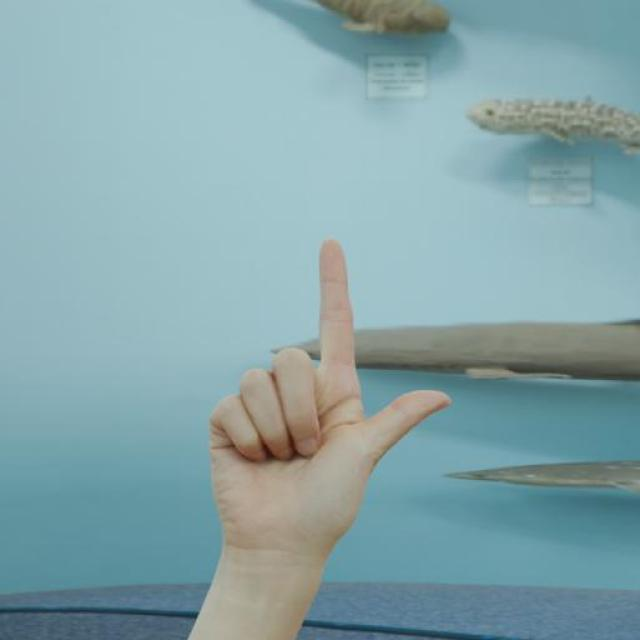L: (204, 238, 456, 553)
